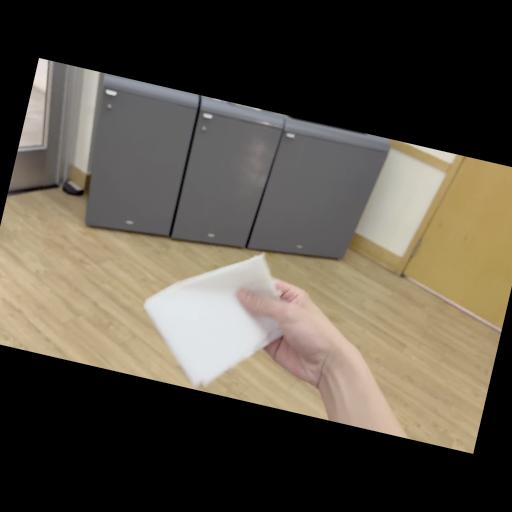napkin: (78, 218, 304, 406)
